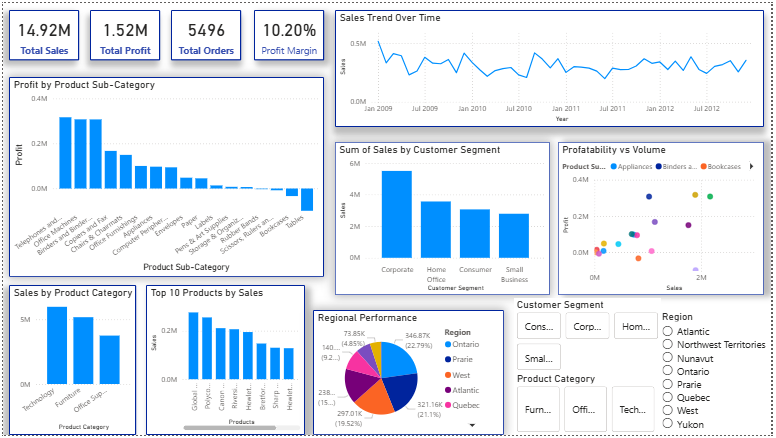

This screenshot's page, from the dashboard's own definition file:
{"tool":"powerbi","page":{"name":"Page 1","canvas":[1280,720],"ordinal":0},"visuals":[{"type":"card","title":"Total Sales","fields":{"Values":["Sum(Orders.Sales)"]},"box":[10,11.4,117.1,84.3],"z":0},{"type":"card","title":"Total Profit","fields":{"Values":["Sum(Orders.Profit)"]},"box":[144.3,11.4,117.1,84.3],"z":1000},{"type":"card","fields":{"Values":["Orders.Total Orders"]},"box":[280,11.4,117.1,84.3],"z":2000},{"type":"card","fields":{"Values":["Orders.Profit Margin"]},"box":[418.6,11.4,117.1,84.3],"z":3000},{"type":"lineChart","title":"Sales Trend Over Time","fields":{"Y":["Sum(Orders.Sales)"],"Category":["Orders.MonthStart.Variation.Date Hierarchy.Year","Orders.MonthStart.Variation.Date Hierarchy.Quarter","Orders.MonthStart.Variation.Date Hierarchy.Month","Orders.MonthStart.Variation.Date Hierarchy.Day"]},"box":[553.3,11.7,715,195],"z":4000},{"type":"columnChart","title":"Sales by Product Category","fields":{"Y":["Sum(Orders.Sales)"],"Category":["Orders.Product Category"]},"box":[10,470,211.7,250],"z":5000},{"type":"columnChart","title":"Profit by Product Sub-Category","fields":{"Y":["Sum(Orders.Profit)"],"Category":["Orders.Product Sub-Category"]},"box":[10,123.3,525,333.3],"z":6000},{"type":"columnChart","title":"Top 10 Products by Sales","fields":{"Y":["Sum(Orders.Sales)"],"Category":["Orders.Product Name"]},"box":[238.3,470,265,250],"z":7000},{"type":"pieChart","title":"Regional Performance","fields":{"Category":["Orders.Region"],"Y":["Sum(Orders.Profit)"]},"box":[516.7,511.7,318.3,208.3],"z":8000},{"type":"clusteredColumnChart","fields":{"Y":["Sum(Orders.Sales)"],"Category":["Orders.Customer Segment"]},"box":[553.3,231.7,358.3,255],"z":9000},{"type":"scatterChart","title":"Profatability vs Volume","fields":{"X":["Sum(Orders.Sales)"],"Y":["Sum(Orders.Profit)"],"Series":["Orders.Product Sub-Category"]},"box":[925,231.7,343.3,255],"z":10000},{"type":"listSlicer","fields":{"Values":["Orders.Region"]},"box":[1093.3,511.7,186.7,208.3],"z":11000},{"type":"advancedSlicerVisual","fields":{"Values":["Orders.Product Category"]},"box":[851.7,615,241.7,105],"z":12000},{"type":"advancedSlicerVisual","fields":{"Values":["Orders.Customer Segment"]},"box":[851.7,491.7,245,125],"z":13000}]}

Visuals, with their boxes in screenshot pixels (x1, y1, x2, y2), scaled from the page's 1280x720 canvas onto the 776x438 screenshot:
"Total Sales" card: bbox=[6, 7, 77, 58]
"Total Profit" card: bbox=[87, 7, 158, 58]
card - Orders.Total Orders: bbox=[170, 7, 241, 58]
card - Orders.Profit Margin: bbox=[254, 7, 325, 58]
"Sales Trend Over Time" lineChart: bbox=[335, 7, 769, 126]
"Sales by Product Category" columnChart: bbox=[6, 286, 134, 437]
"Profit by Product Sub-Category" columnChart: bbox=[6, 75, 324, 278]
"Top 10 Products by Sales" columnChart: bbox=[144, 286, 305, 437]
"Regional Performance" pieChart: bbox=[313, 311, 506, 437]
clusteredColumnChart - Sum(Orders.Sales) x Orders.Customer Segment: bbox=[335, 141, 553, 296]
"Profatability vs Volume" scatterChart: bbox=[561, 141, 769, 296]
listSlicer - Orders.Region: bbox=[663, 311, 775, 437]
advancedSlicerVisual - Orders.Product Category: bbox=[516, 374, 663, 437]
advancedSlicerVisual - Orders.Customer Segment: bbox=[516, 299, 665, 375]
